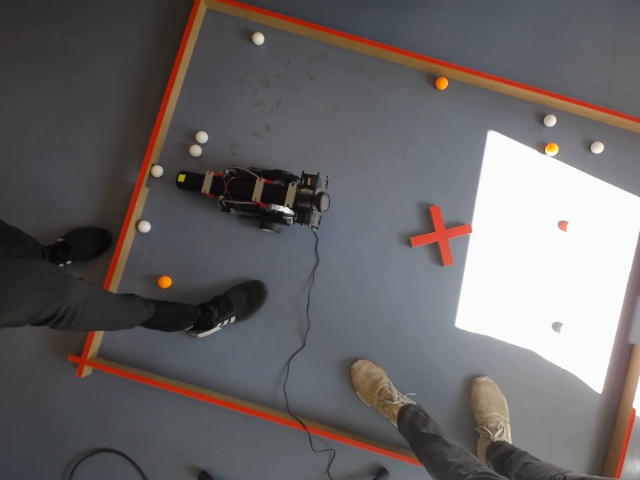orange: (350, 359, 388, 408), (156, 275, 172, 289), (544, 142, 559, 156), (435, 75, 448, 90)
white: (66, 448, 152, 480), (588, 140, 606, 157), (542, 112, 558, 129), (250, 30, 265, 47), (136, 220, 152, 233), (150, 164, 164, 178), (195, 130, 208, 145), (189, 143, 202, 157)
